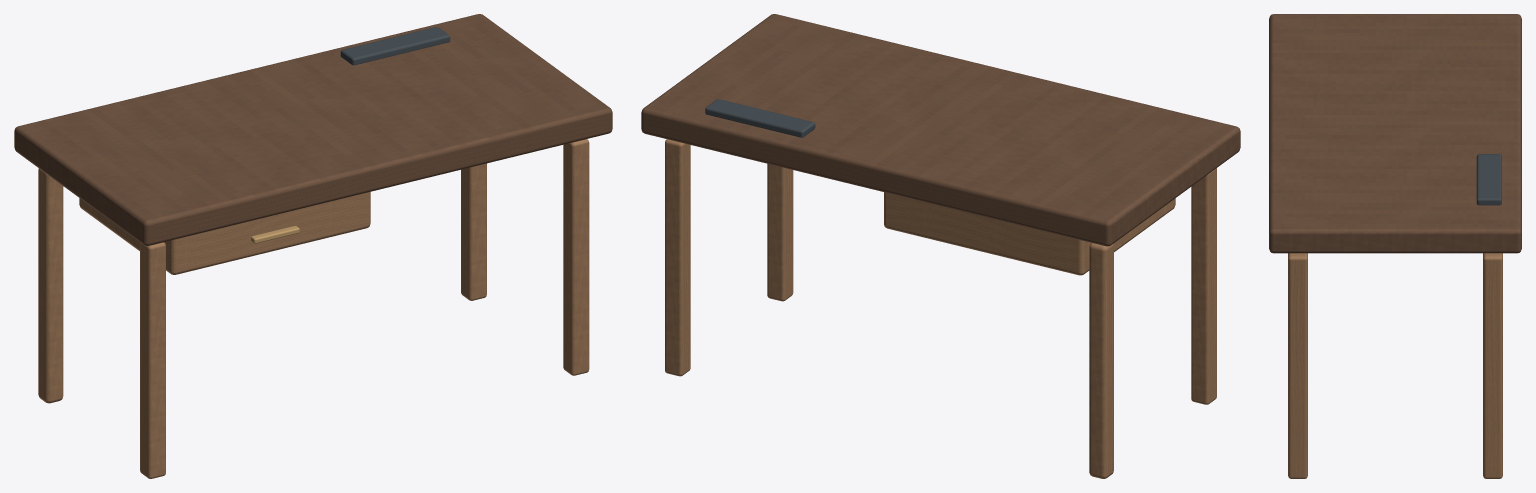
Rendered from writing_table.glb.
The picture shows the model from 3 angles, left to right: view 1: azimuth 30°, elevation 25°; view 2: azimuth 150°, elevation 25°; view 3: azimuth 270°, elevation 25°; orthographic projection. The views are drawn at different scales.
Parts seen in each view (by area): view 1: DeskSlab, DeskDrawer, _MeshInstance3D_15, _MeshInstance3D_13, TaperedLeg, _MeshInstance3D_14, CableChannel; view 2: DeskSlab, DeskDrawer, _MeshInstance3D_14, _MeshInstance3D_13, TaperedLeg, _MeshInstance3D_15, CableChannel; view 3: DeskSlab, _MeshInstance3D_14, _MeshInstance3D_15, CableChannel.
Boxes of the visible parts, x1=… form: DeskSlab: x1=14, y1=14, x2=612, y2=245; DeskDrawer: x1=79, y1=192, x2=370, y2=274; _MeshInstance3D_15: x1=563, y1=139, x2=589, y2=375; _MeshInstance3D_13: x1=140, y1=242, x2=165, y2=478; TaperedLeg: x1=38, y1=168, x2=63, y2=403; _MeshInstance3D_14: x1=461, y1=163, x2=486, y2=300; CableChannel: x1=340, y1=27, x2=450, y2=65; DeskSlab: x1=641, y1=14, x2=1240, y2=246; DeskDrawer: x1=884, y1=192, x2=1175, y2=275; _MeshInstance3D_14: x1=665, y1=139, x2=690, y2=376; _MeshInstance3D_13: x1=1191, y1=168, x2=1216, y2=404; TaperedLeg: x1=1089, y1=243, x2=1113, y2=478; _MeshInstance3D_15: x1=767, y1=163, x2=793, y2=301; CableChannel: x1=705, y1=99, x2=815, y2=137; DeskSlab: x1=1269, y1=14, x2=1521, y2=253; _MeshInstance3D_14: x1=1483, y1=253, x2=1502, y2=478; _MeshInstance3D_15: x1=1288, y1=253, x2=1307, y2=478; CableChannel: x1=1476, y1=154, x2=1501, y2=205.
Size of the model in its own units: 1.43 by 0.802 by 0.7.
Materials: 4 (2 with a texture image).
